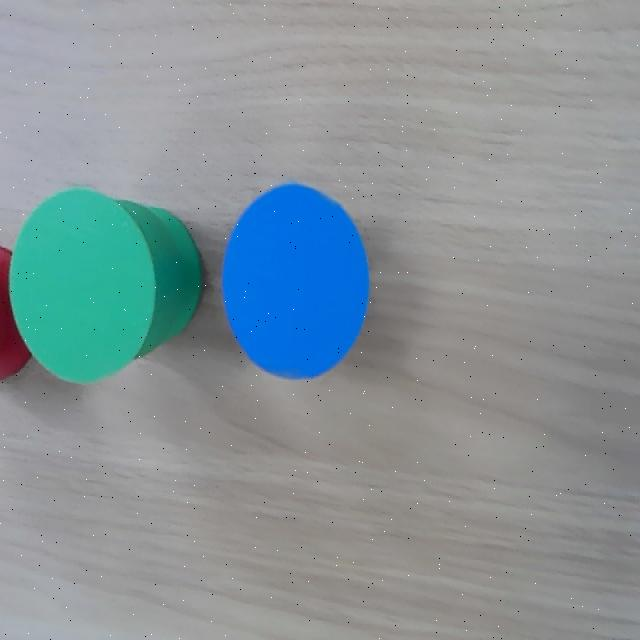b: (222, 184, 368, 378)
g: (9, 186, 156, 386)
